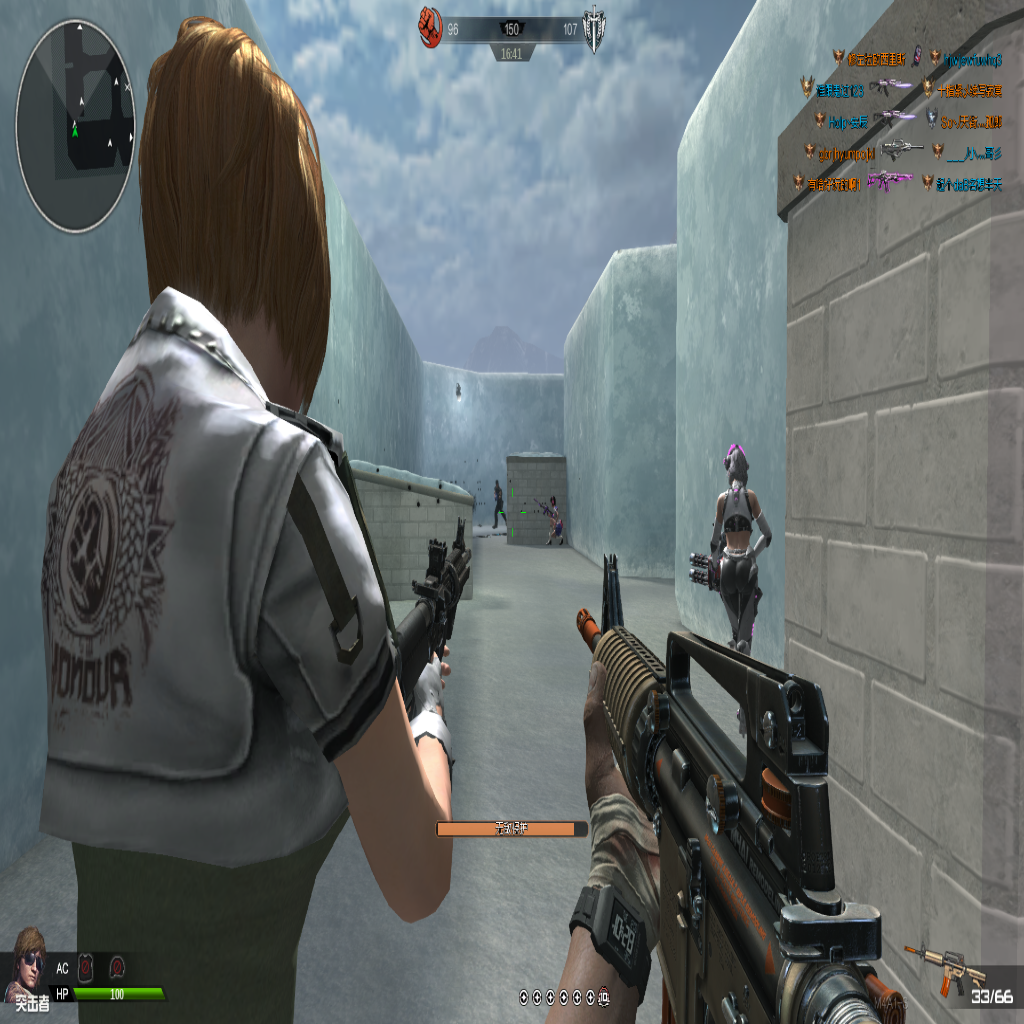ct: (492, 480, 506, 531)
tt: (708, 451, 772, 655)
